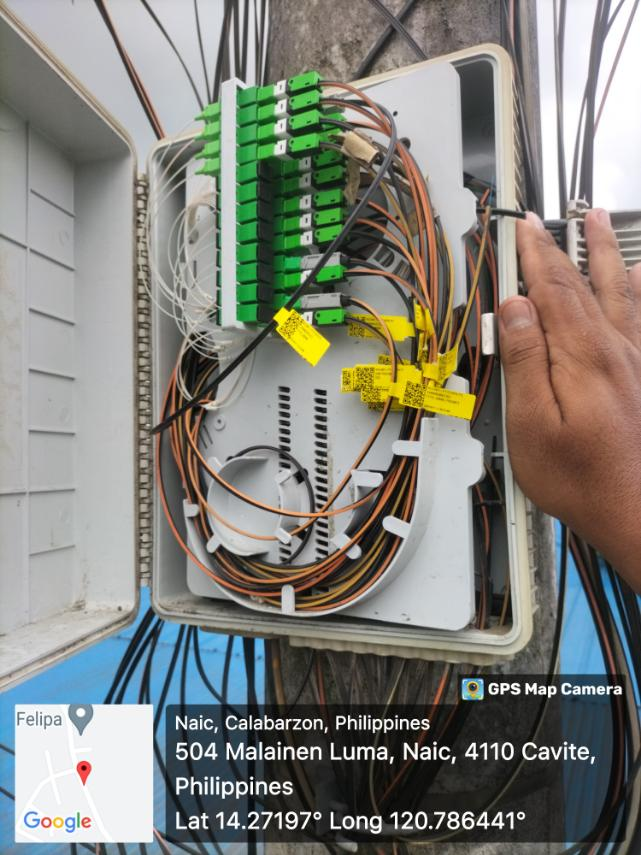occupied: (259, 89, 323, 119), (282, 165, 350, 191), (281, 149, 349, 173), (275, 95, 343, 119), (280, 225, 348, 248), (281, 186, 349, 209), (280, 208, 348, 231), (259, 112, 327, 135), (256, 75, 324, 98), (279, 117, 347, 140), (277, 133, 345, 156), (257, 135, 325, 158), (281, 292, 350, 310), (281, 267, 349, 285), (283, 309, 351, 327), (281, 251, 349, 269)
vacant: (259, 284, 273, 303), (258, 162, 272, 181), (259, 182, 273, 201), (259, 265, 273, 283), (259, 204, 273, 222), (259, 245, 272, 264), (259, 223, 272, 241), (258, 305, 270, 321)
